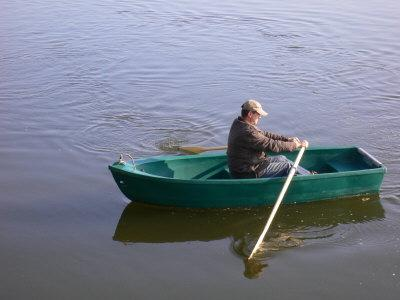person: (227, 100, 318, 180)
